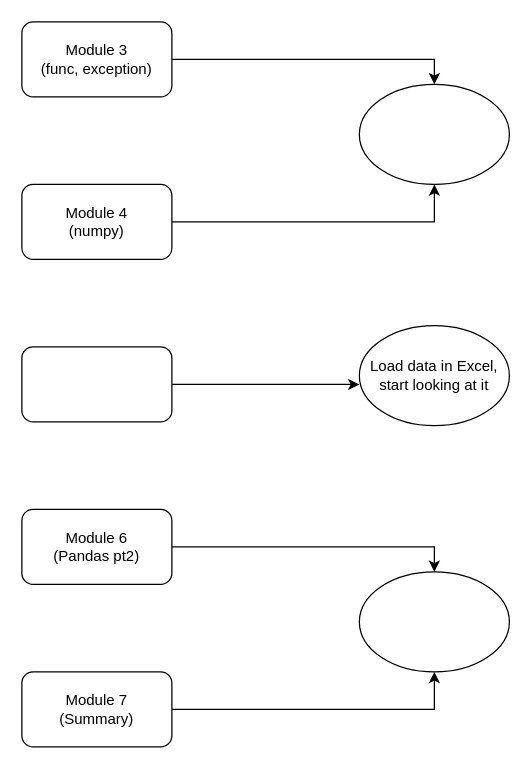
The diagram is 531 pixels wide and 769 high, and some of its shapes have lost their labels. Here are the shapes that lost their labels. From the top down, the box of each, then its label:
(358, 83, 509, 184): Define Interest, find Data Set
(21, 346, 172, 422): Module 5 (Pandas pt1)
(358, 571, 509, 672): Load data in Pandas, work on formatting, selection, etc.
